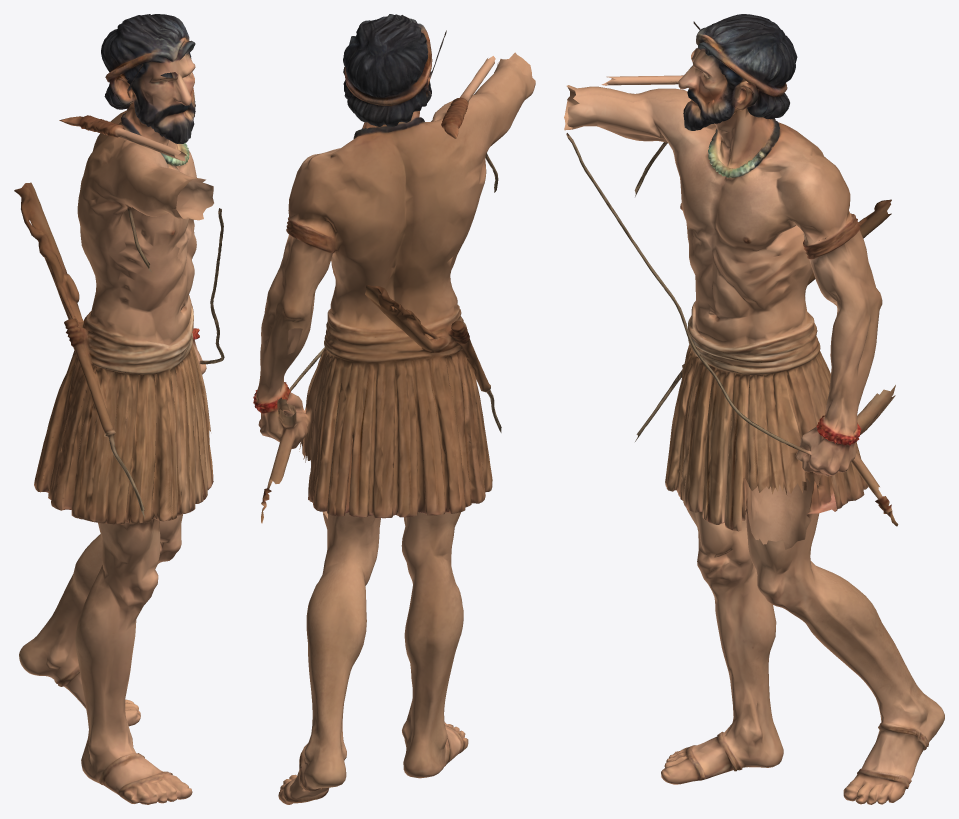
The model's file is crowd_archer_repaired.glb.
The picture shows the model from 3 angles, left to right: view 1: azimuth 30°, elevation 25°; view 2: azimuth 150°, elevation 25°; view 3: azimuth 270°, elevation 25°; orthographic projection. The views are drawn at different scales.
Parts seen in each view (by area): view 1: crowd_archer; view 2: crowd_archer; view 3: crowd_archer.
Boxes of the visible parts, left/top/right/bottom form: crowd_archer: left=14, top=14, right=224, bottom=804; crowd_archer: left=253, top=14, right=535, bottom=804; crowd_archer: left=564, top=14, right=944, bottom=804.
Size of the model in its own units: 0.4448 by 1.69 by 0.7656.
Materials: 1 (1 with a texture image).
